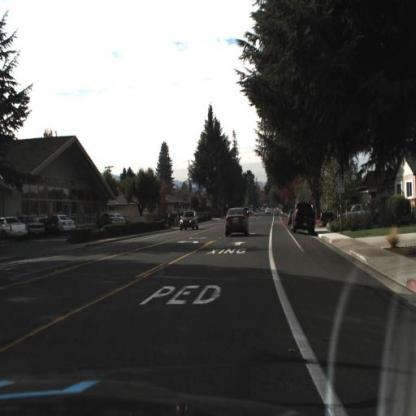car: (221, 204, 254, 238), (289, 200, 317, 236), (338, 197, 372, 225), (18, 215, 46, 239), (1, 218, 26, 244), (176, 209, 198, 232), (54, 212, 78, 232), (100, 210, 120, 228)
